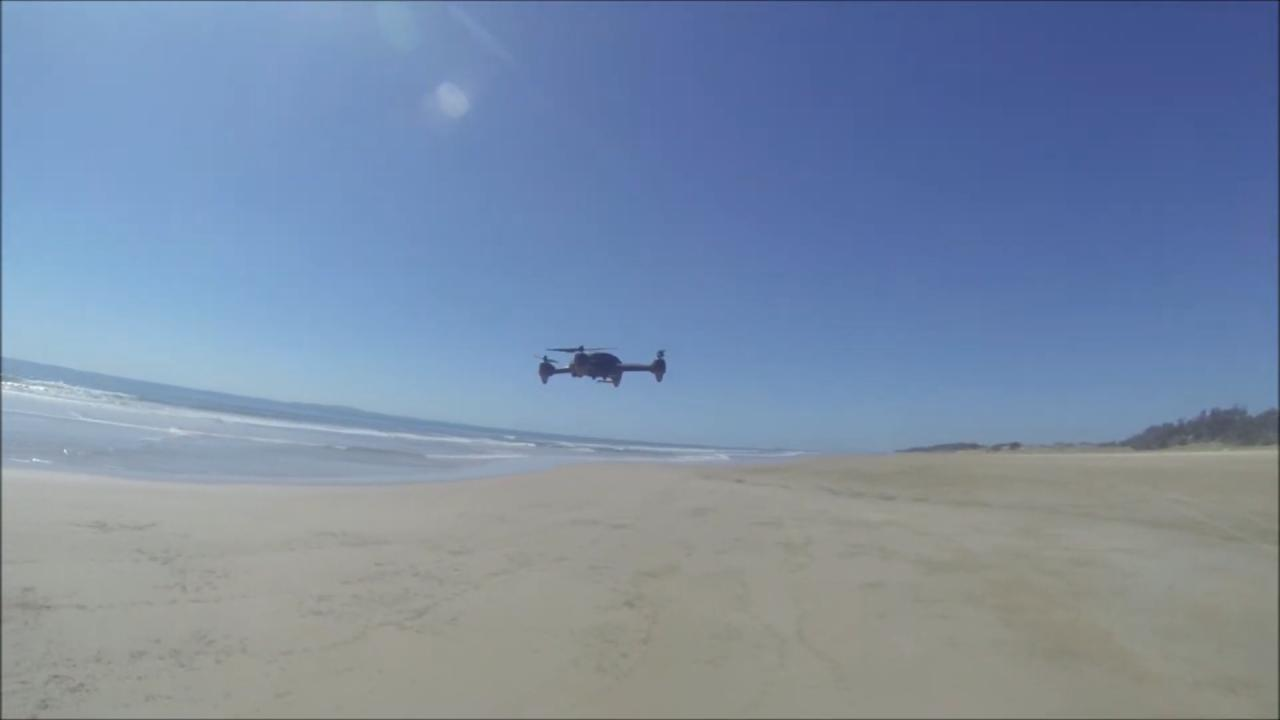Drone: (520, 328, 679, 409)
